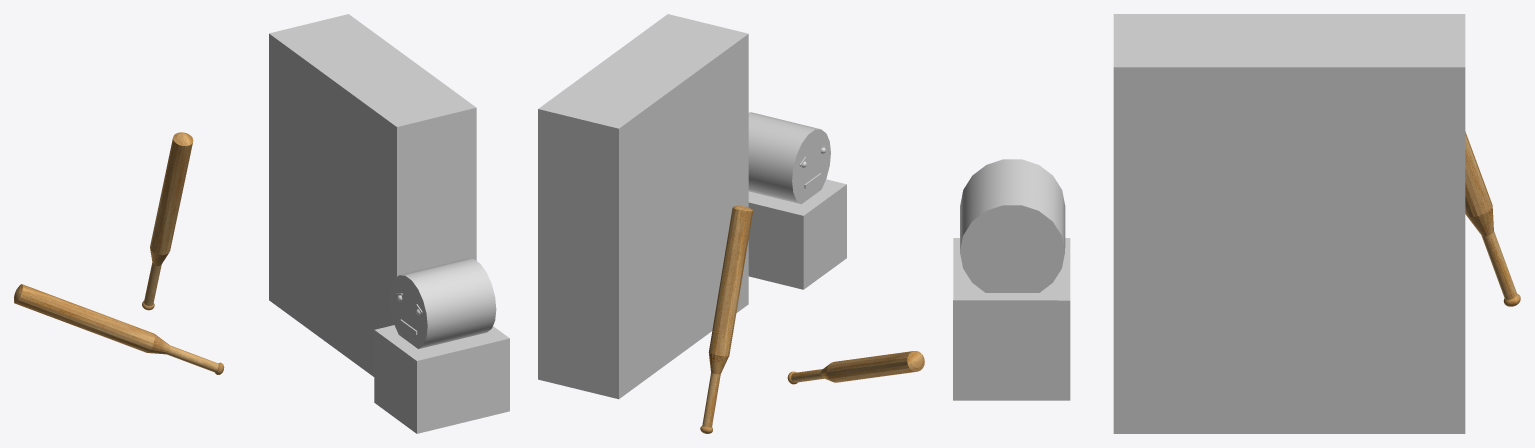
The model's file is batte_de_baseball (1).fbx.
3 renders of one model, left to right at view 1: azimuth 30°, elevation 25°; view 2: azimuth 150°, elevation 25°; view 3: azimuth 270°, elevation 25°, orthographic. The views are drawn at different scales.
Parts seen in each view (by area): view 1: Box004, Box005, Cylinder001, batte de baseball, batte de baseball v2; view 2: Box004, Box005, Cylinder001, batte de baseball v2, batte de baseball; view 3: Box004, Box005, Cylinder001, batte de baseball v2.
Part boxes in pixels (bbox=[...]): Box004: bbox=[269, 14, 476, 376]; Box005: bbox=[374, 325, 509, 433]; Cylinder001: bbox=[389, 258, 496, 348]; batte de baseball: bbox=[14, 284, 224, 374]; batte de baseball v2: bbox=[142, 132, 193, 310]; Box004: bbox=[538, 14, 748, 399]; Box005: bbox=[748, 179, 846, 289]; Cylinder001: bbox=[748, 112, 830, 204]; batte de baseball v2: bbox=[700, 205, 753, 433]; batte de baseball: bbox=[787, 351, 924, 384]; Box004: bbox=[1113, 14, 1465, 433]; Box005: bbox=[953, 238, 1070, 400]; Cylinder001: bbox=[960, 159, 1065, 292]; batte de baseball v2: bbox=[1465, 131, 1520, 306].
Bounding box in the file's own units: 127 × 91.6 × 128.
Materials: 1 (1 with a texture image).
